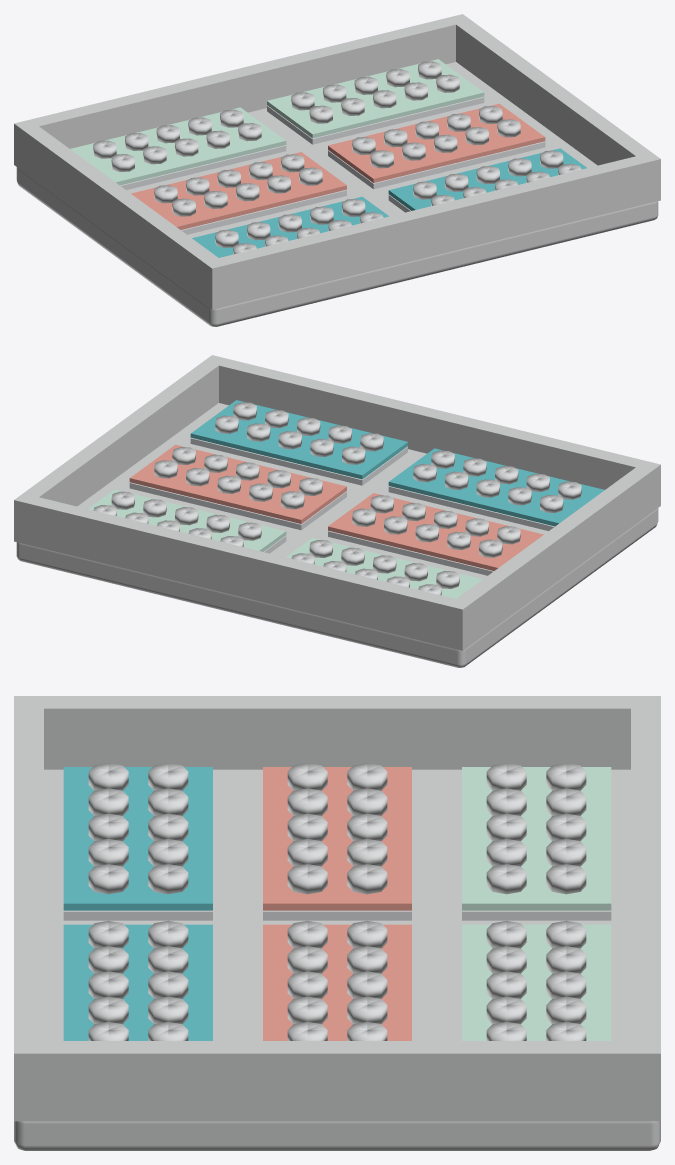
Rendered from pharmacy-and-high-street-chemist-blister-pack-tray-82601afb__37541.glb.
The picture shows the model from 3 angles, top to bottom: view 1: azimuth 30°, elevation 25°; view 2: azimuth 150°, elevation 25°; view 3: azimuth 270°, elevation 25°; orthographic projection. The views are drawn at different scales.
Visible parts, largest first — view 1: blister-pack-tray; view 2: blister-pack-tray; view 3: blister-pack-tray.
Part boxes in pixels (x1,y1,x2,y2): blister-pack-tray: [14, 14, 660, 326]; blister-pack-tray: [14, 355, 660, 667]; blister-pack-tray: [14, 696, 660, 1150].
Size of the model in its own units: 0.34 by 0.045 by 0.26.
